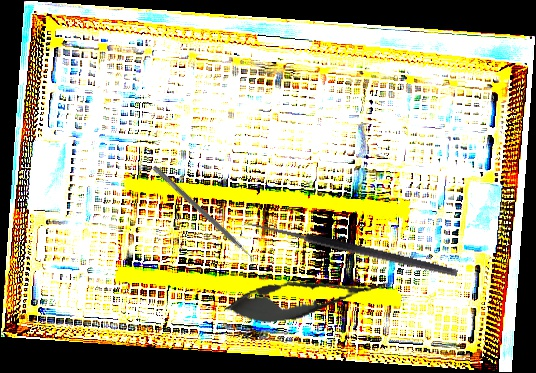Hook Surgical: (239, 218, 459, 288)
Micro Scissor: (221, 264, 394, 332)
Spatula Surgical: (148, 164, 259, 267)
